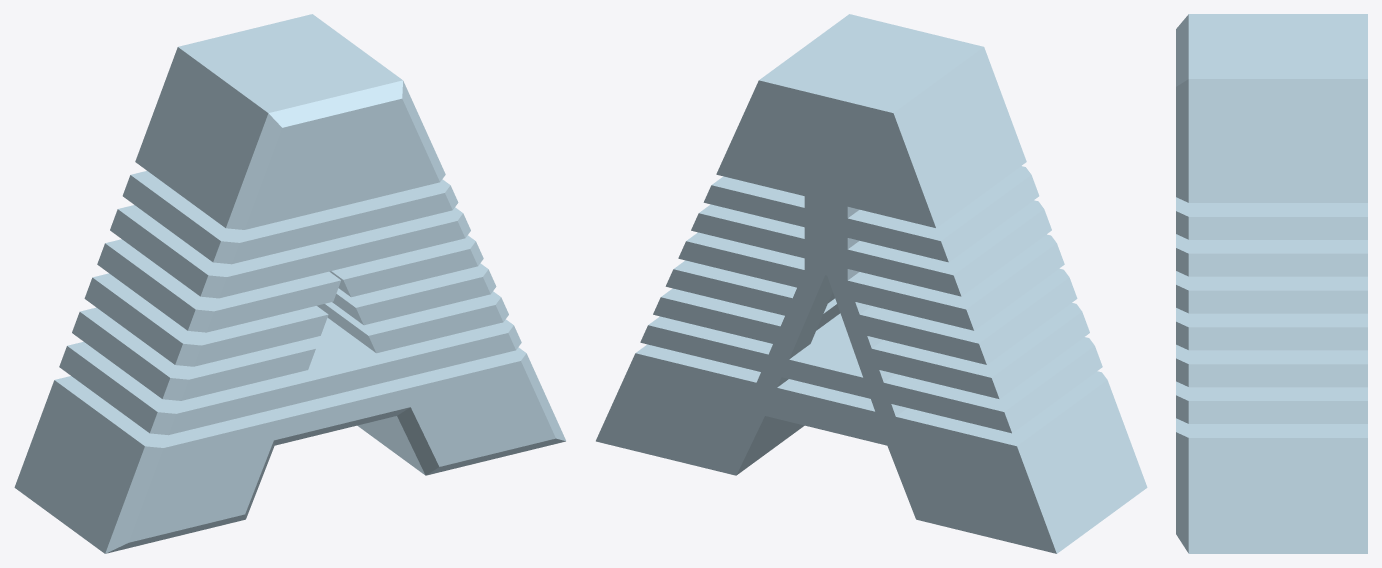
The model's file is STAM - A.gltf.
3 views of the same model, side by side, from view 1: azimuth 30°, elevation 25°; view 2: azimuth 150°, elevation 25°; view 3: azimuth 270°, elevation 25° (orthographic).
Visible parts, largest first — view 1: A; view 2: A; view 3: A.
Boxes of the visible parts, x1,y1,x2,y2 form: A: [14, 14, 565, 553]; A: [596, 14, 1147, 553]; A: [1176, 14, 1367, 553].
Size of the model in its own units: 0.0412 by 0.0342 by 0.015.
